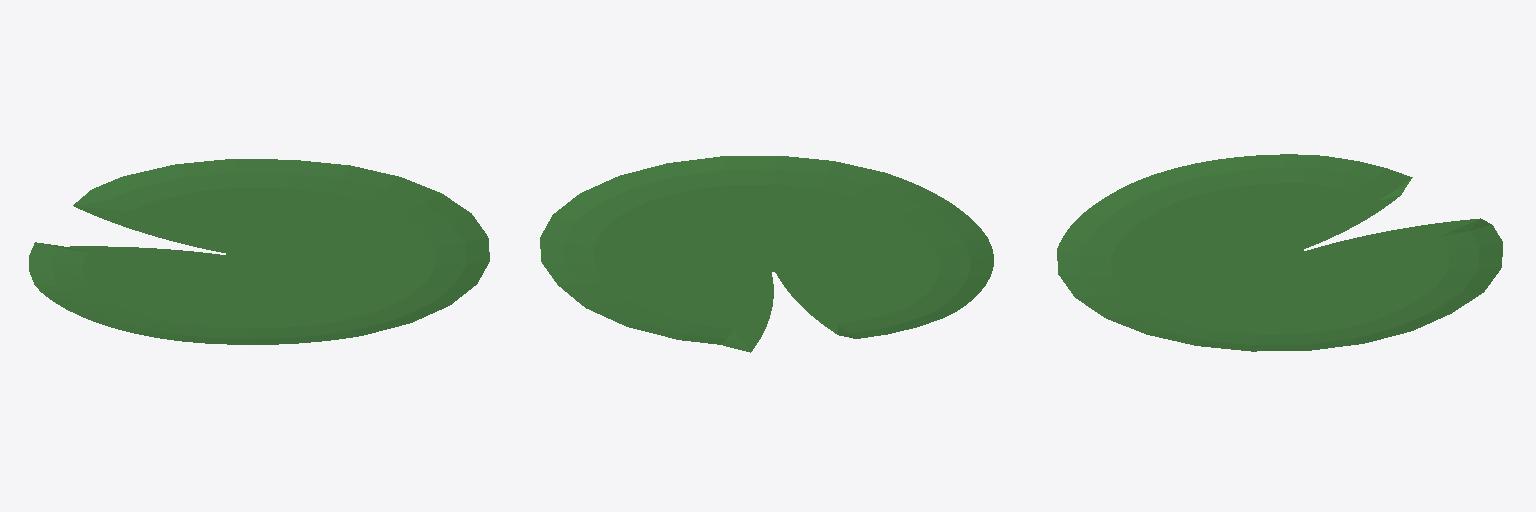
File: lilypad.obj
The picture shows the model from 3 angles: view 1: azimuth 30°, elevation 25°; view 2: azimuth 150°, elevation 25°; view 3: azimuth 270°, elevation 25°; orthographic projection.
Parts seen in each view (by area): view 1: lilypad; view 2: lilypad; view 3: lilypad.
Boxes of the visible parts, x1=… form: lilypad: x1=29, y1=159, x2=489, y2=344; lilypad: x1=540, y1=156, x2=993, y2=352; lilypad: x1=1057, y1=154, x2=1502, y2=351.
Bounding box in the file's own units: 1.39 × 0.02 × 1.33.